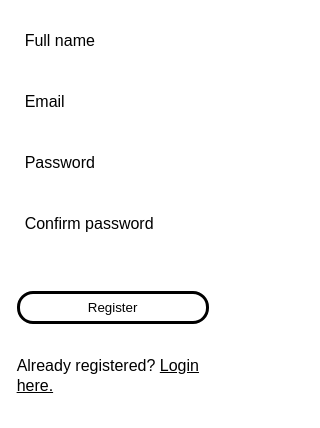
Scenario: RegisterView › shows an error when fields are empty
Click the button "Register". click: click(113, 307)
box: top-left (17, 290), bottom-right (209, 324)
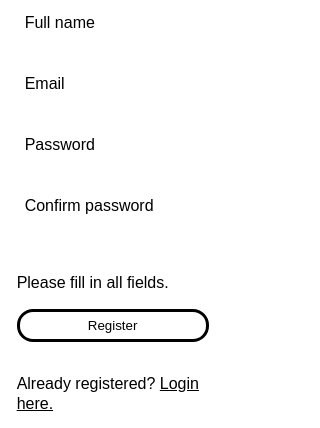
Check: the text with class "error-message" reads "Please fill in all fields.", box top-left (17, 274), bottom-right (169, 290)
